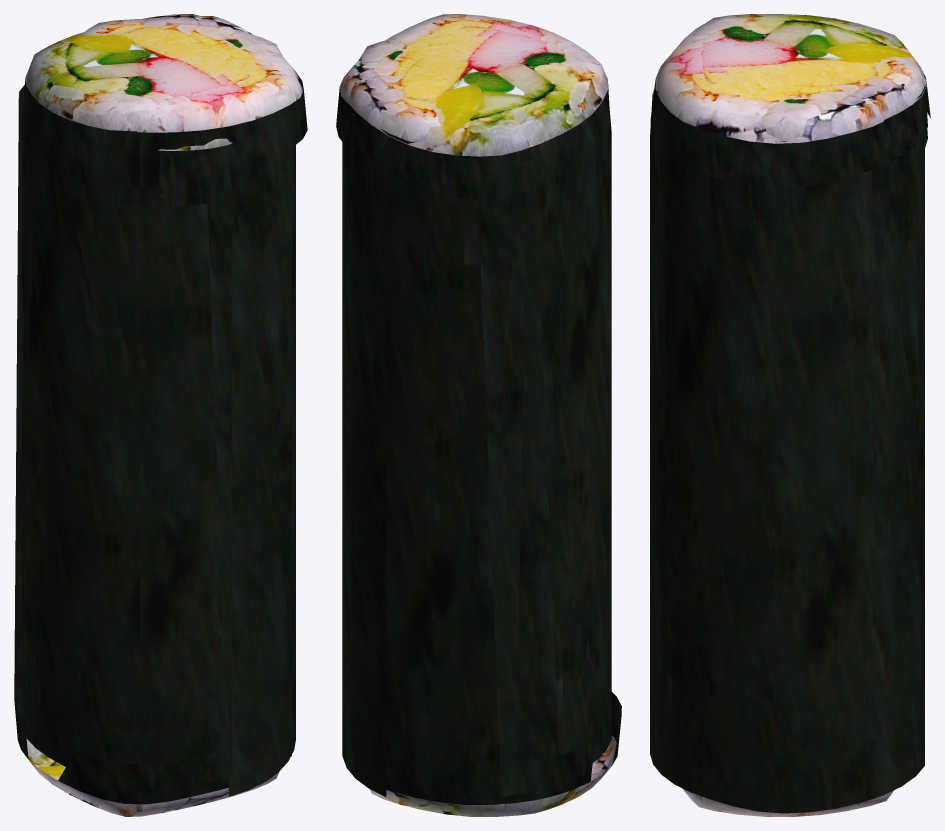
File: sushi_uncut.fbx
3 views of the same model, side by side, from view 1: azimuth 30°, elevation 25°; view 2: azimuth 150°, elevation 25°; view 3: azimuth 270°, elevation 25° (orthographic).
Visible parts, largest first — view 1: sushi.036, sushi.031, sushi.032, sushi.033, sushi.034; view 2: sushi.031, sushi.032, sushi.034, sushi.033, sushi.036; view 3: sushi.034, sushi.033, sushi.036, sushi.031, sushi.032.
Part boxes in pixels (x1,y1,x2,y2): sushi.036: (125,16,307,782); sushi.031: (22,14,255,766); sushi.032: (14,85,279,816); sushi.033: (159,145,295,796); sushi.034: (52,19,295,784); sushi.031: (347,26,611,796); sushi.032: (370,160,621,816); sushi.034: (342,40,585,776); sushi.033: (342,147,458,796); sushi.036: (336,14,595,152); sushi.034: (650,58,927,801); sushi.033: (650,129,927,813); sushi.036: (650,24,898,770); sushi.031: (692,14,930,158); sushi.032: (682,788,893,816).
Bounding box in the file's own units: 10.23 × 27.78 × 9.79.
